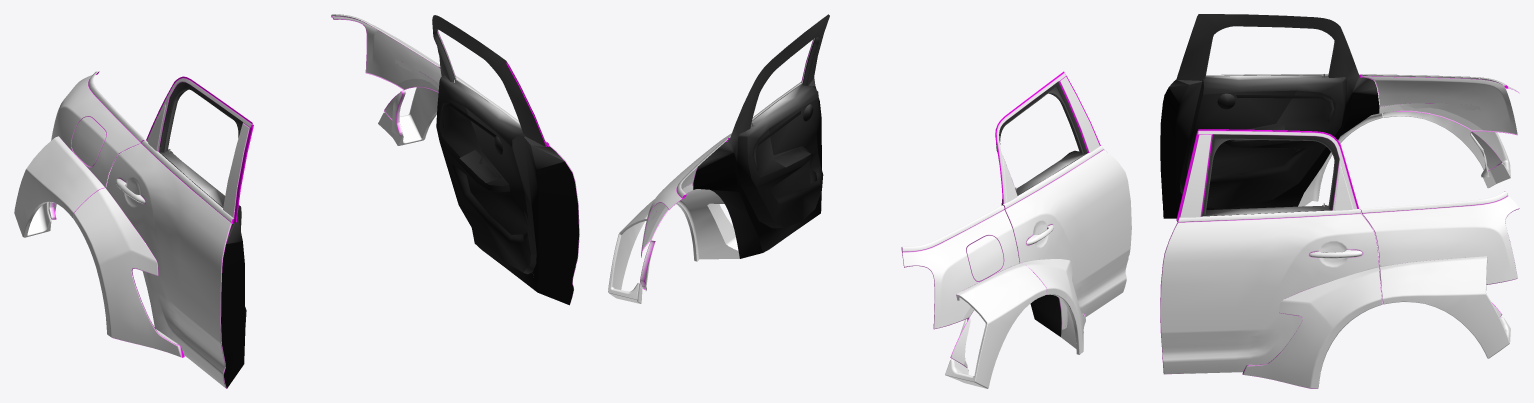
File: Car_Mini_CountrymanJCW_2017_FendersR_SetC_AltA.fbx
The picture shows the model from 3 angles, left to right: view 1: azimuth 30°, elevation 25°; view 2: azimuth 150°, elevation 25°; view 3: azimuth 270°, elevation 25°; orthographic projection. The views are drawn at different scales.
Visible parts, largest first — view 1: FendersR 6; view 2: FendersR 6; view 3: FendersR 6.
Part boxes in pixels (box(x1,y1,x2,y2)): FendersR 6: box(14, 14, 579, 388); FendersR 6: box(608, 14, 1131, 388); FendersR 6: box(1160, 14, 1519, 388).
Bounding box in the file's own units: 2.07 × 1.14 × 1.66.
